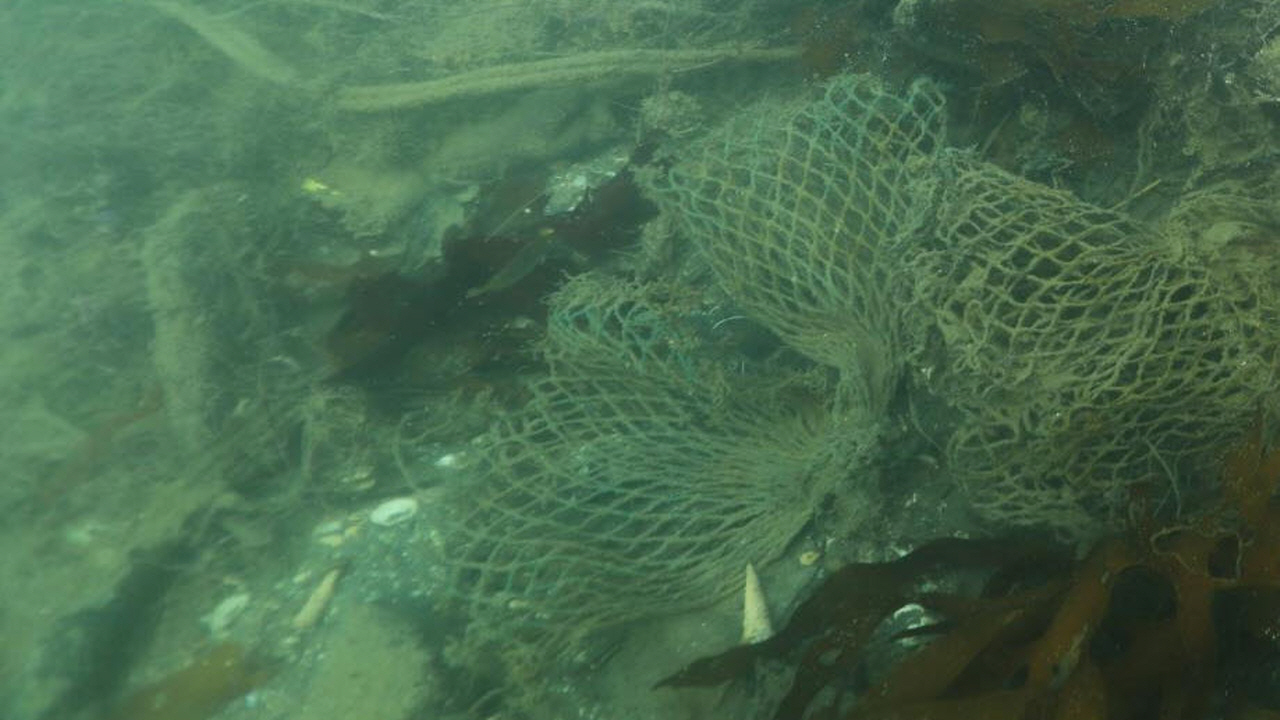fish net: (433, 73, 1273, 668)
